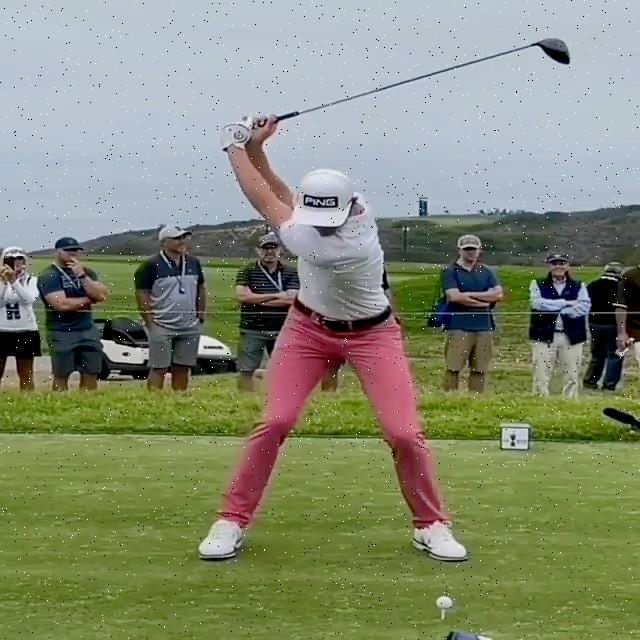ClubHead: (537, 37, 572, 64)
GolfBall: (435, 596, 452, 608)
